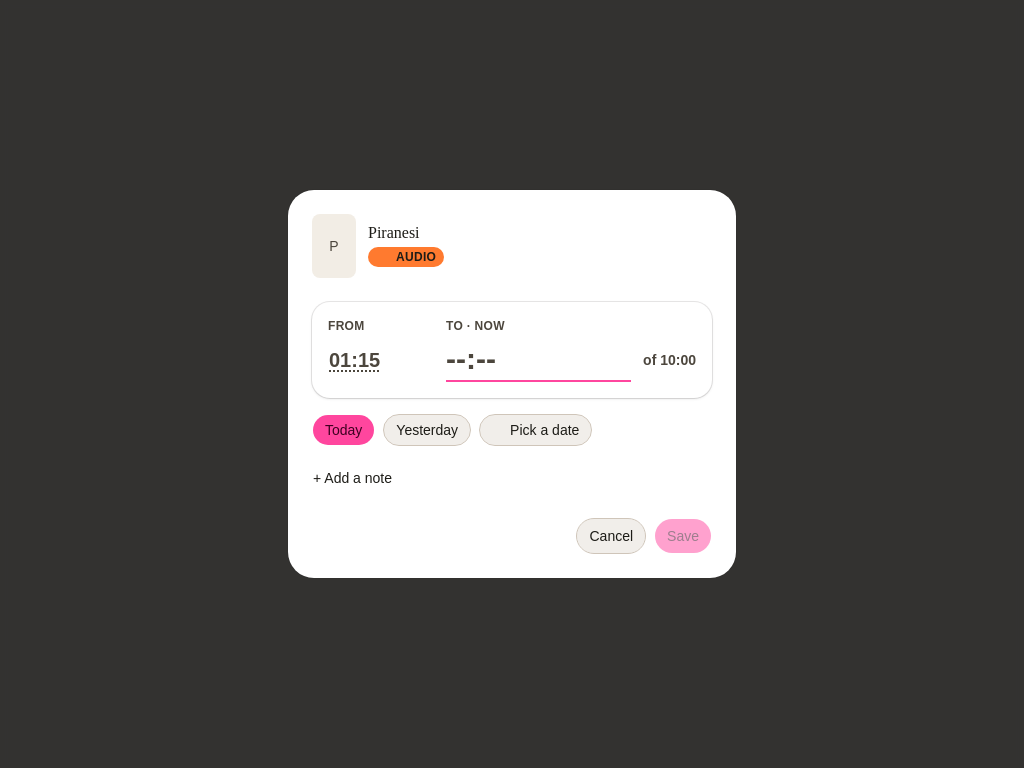
it: ProgressLogSheet › refuses a start past the audio frontier in HH:MM
Click the button named "Edit start position".
click(355, 360)  # box [328, 344, 381, 376]
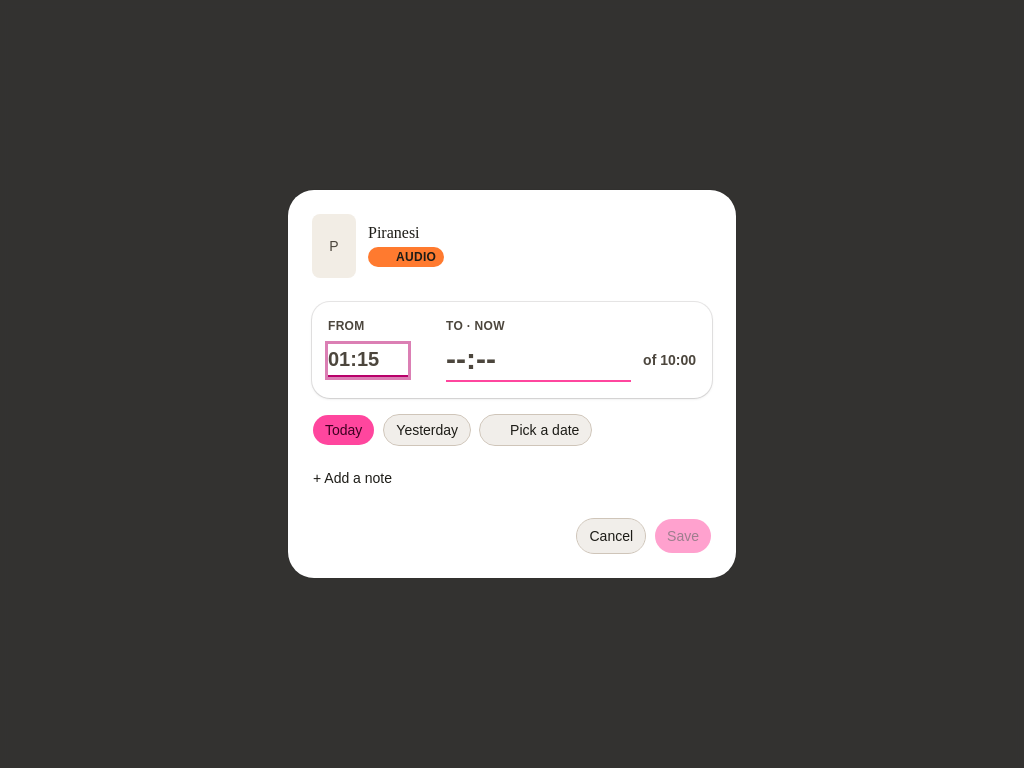
Replace the text in the field named "start position" with "02:00" at {"x": 368, "y": 360}, box [328, 344, 408, 376]
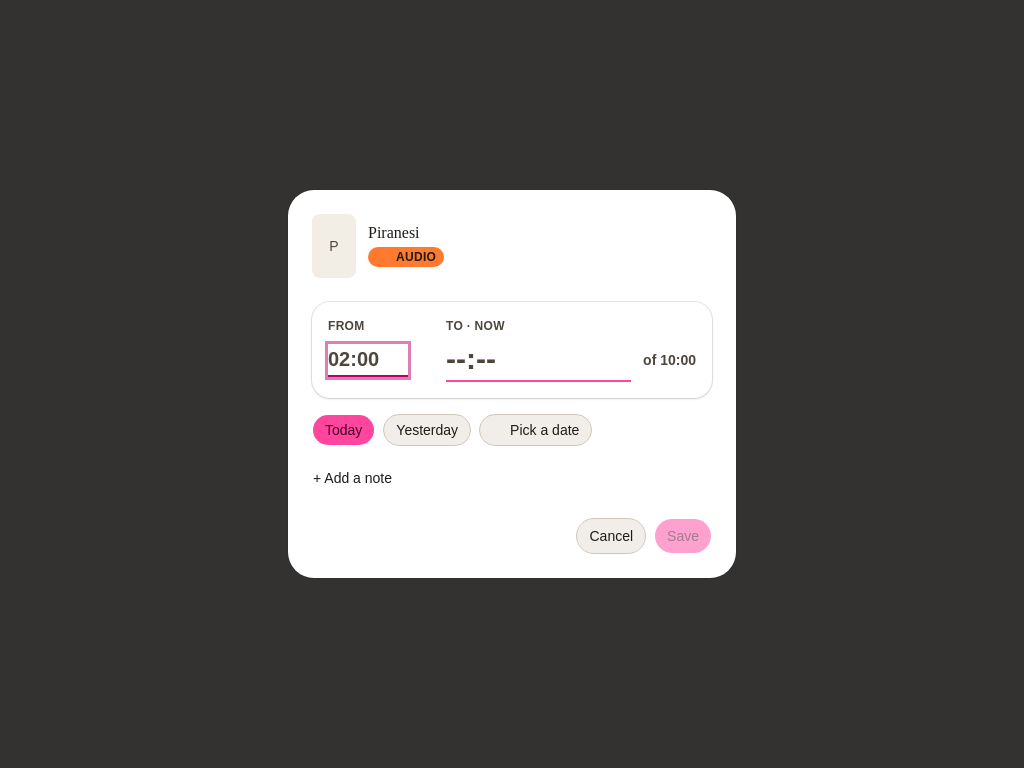
Press Tab
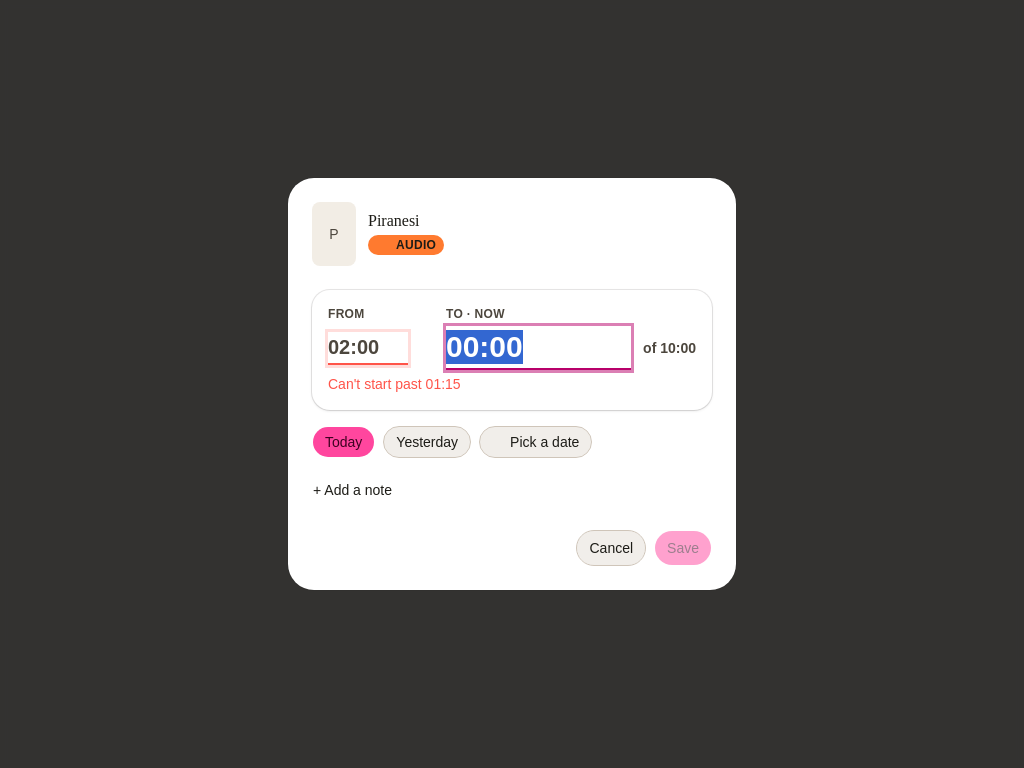
Check: the text "Can't start past 01:15" is shown, box [328, 376, 461, 392]
